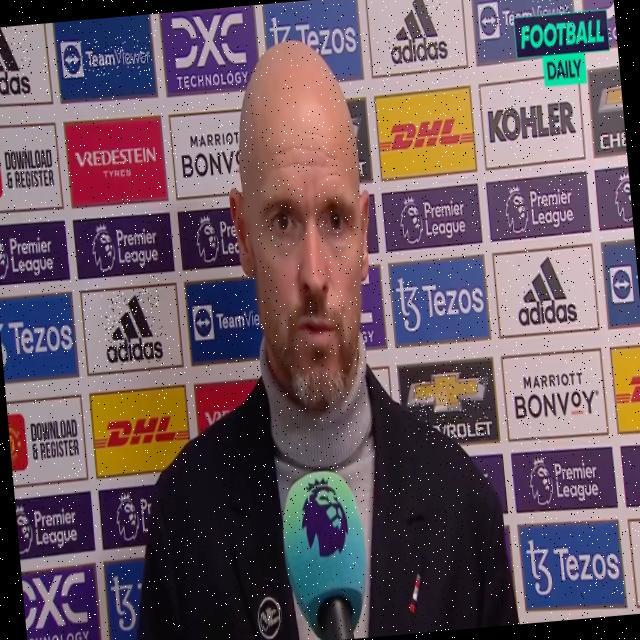Adidas: (512, 251, 577, 329), (101, 287, 165, 366), (384, 0, 448, 67), (0, 25, 34, 99)
Chevrolet: (406, 366, 494, 443)
Kohler: (487, 98, 576, 145)
TeamViewer: (61, 33, 153, 81), (477, 0, 571, 36)
